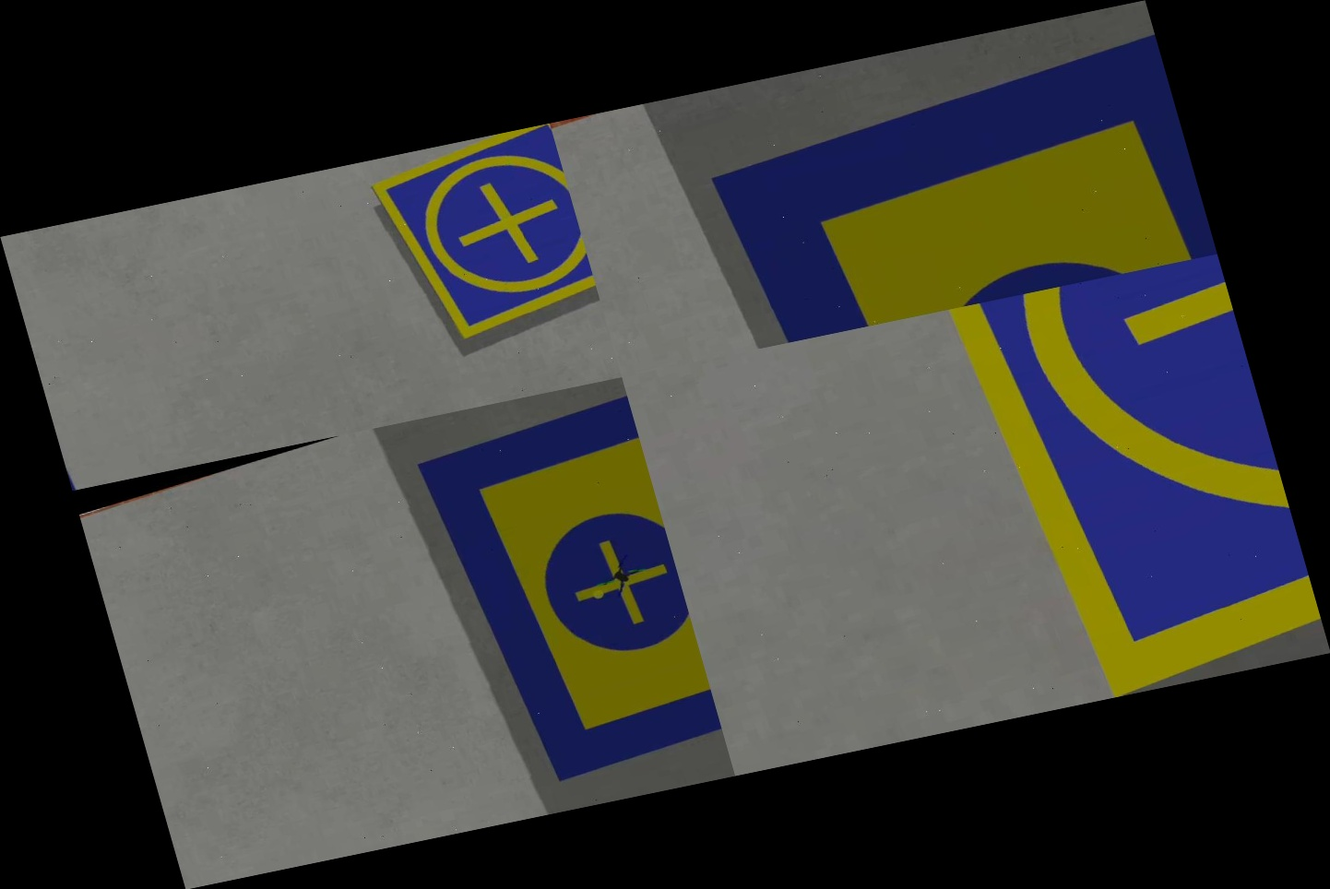large_base: (696, 32, 1217, 349), (407, 388, 727, 791)
small_base: (927, 254, 1330, 712), (363, 123, 604, 353)
